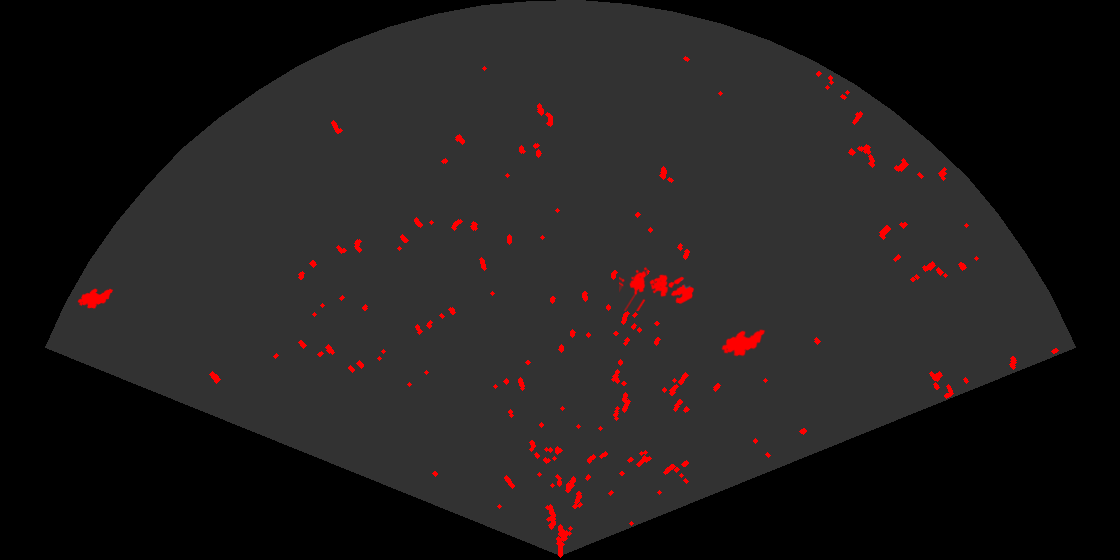AUV: (720, 328, 767, 358), (76, 287, 115, 311)
ball: (667, 275, 696, 306)
cage: (619, 265, 670, 311)
